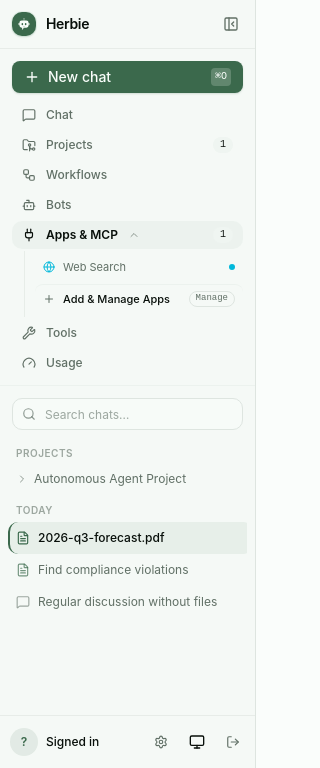
Test case: AppSidebar › renders Apps & MCP navigation item with neutral icon and aligned count badge
Expected: the text "Apps & MCP" is shown, [46,227,118,243]
Expected: the text "Web Search" is shown, [63,259,126,276]
# Clicking appsBtn collapses it
Click the button "Apps & MCP 1" at {"x": 128, "y": 235}, box [12,221,243,249]
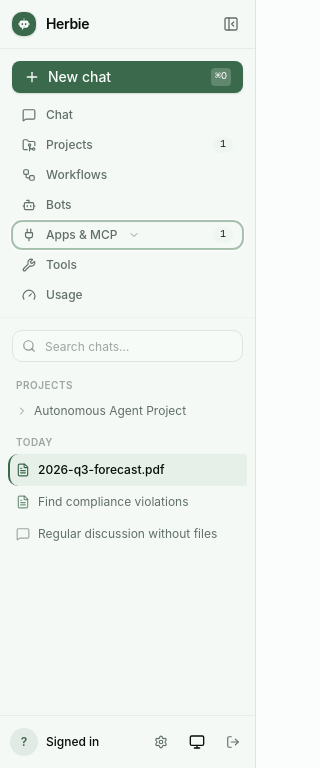
Result: the button "Web Search" is gone
# Clicking again expands it
Click the button "Apps & MCP 1" at {"x": 128, "y": 235}, box [12,221,243,249]
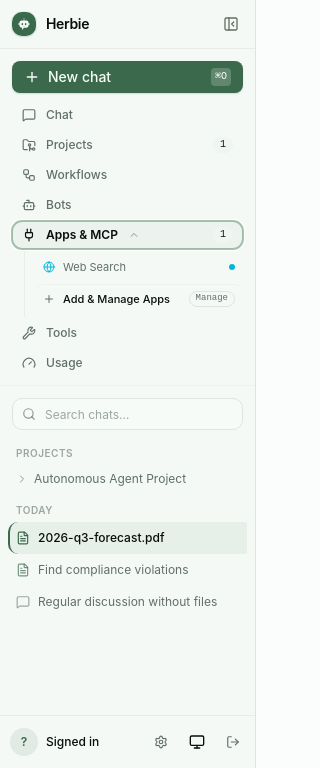
Result: the text "Web Search" is shown at [63,259,126,276]
